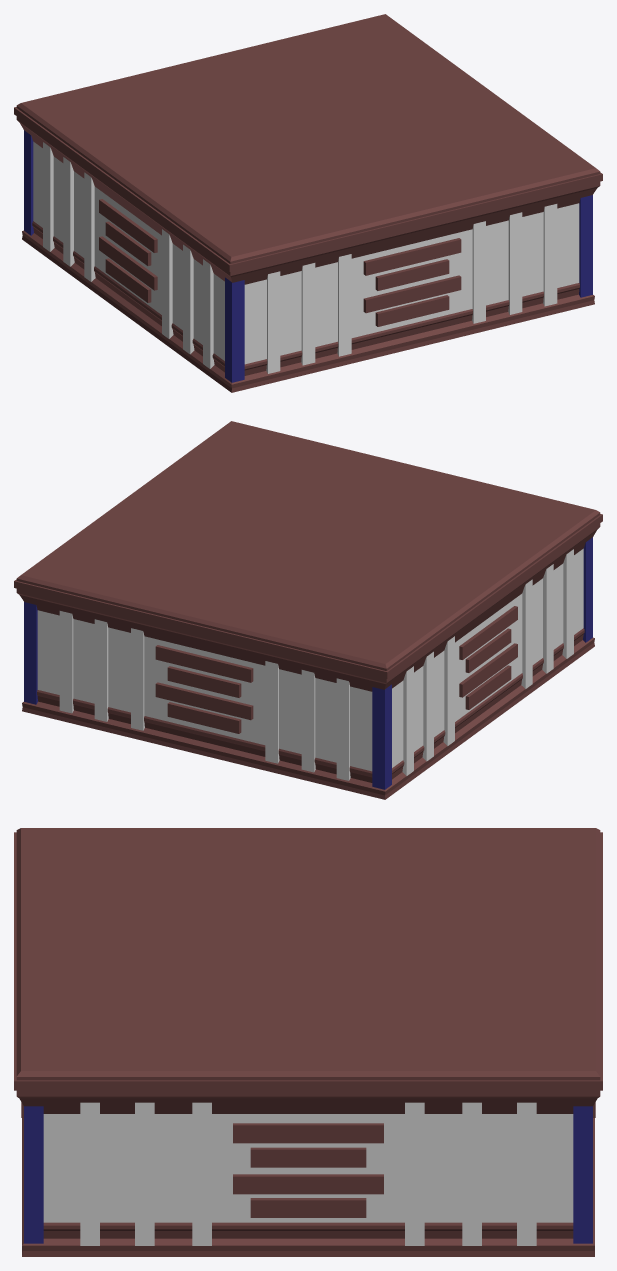
3 renders of one model, top to bottom at view 1: azimuth 30°, elevation 25°; view 2: azimuth 150°, elevation 25°; view 3: azimuth 270°, elevation 25°, orthographic. The views are drawn at different scales.
Parts seen in each view (by area): view 1: floor9.2, floor9.2Decor; view 2: floor9.2, floor9.2Decor; view 3: floor9.2, floor9.2Decor.
Part boxes in pixels (<box>): floor9.2: <box>14,14,602,392</box>; floor9.2Decor: <box>24,130,592,382</box>; floor9.2: <box>14,421,602,799</box>; floor9.2Decor: <box>24,537,592,789</box>; floor9.2: <box>14,828,602,1256</box>; floor9.2Decor: <box>21,1102,595,1245</box>.
Bounding box in the file's own units: 209 × 73.03 × 209.
